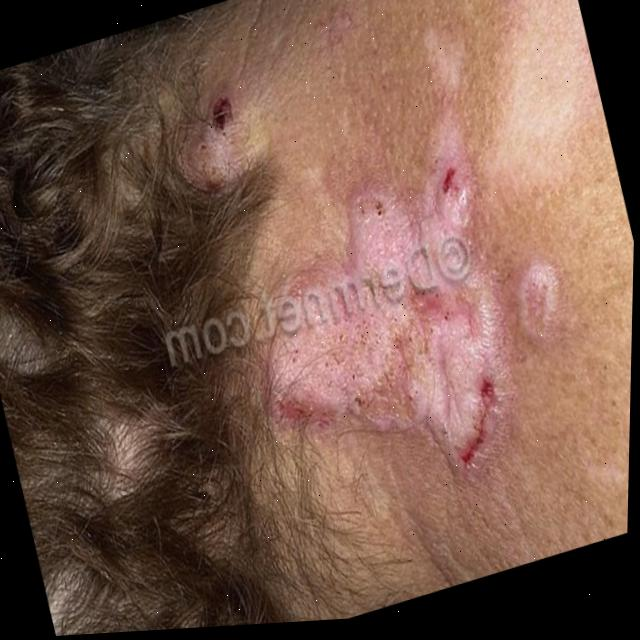Eczema: (210, 56, 589, 527), (194, 91, 243, 146)
